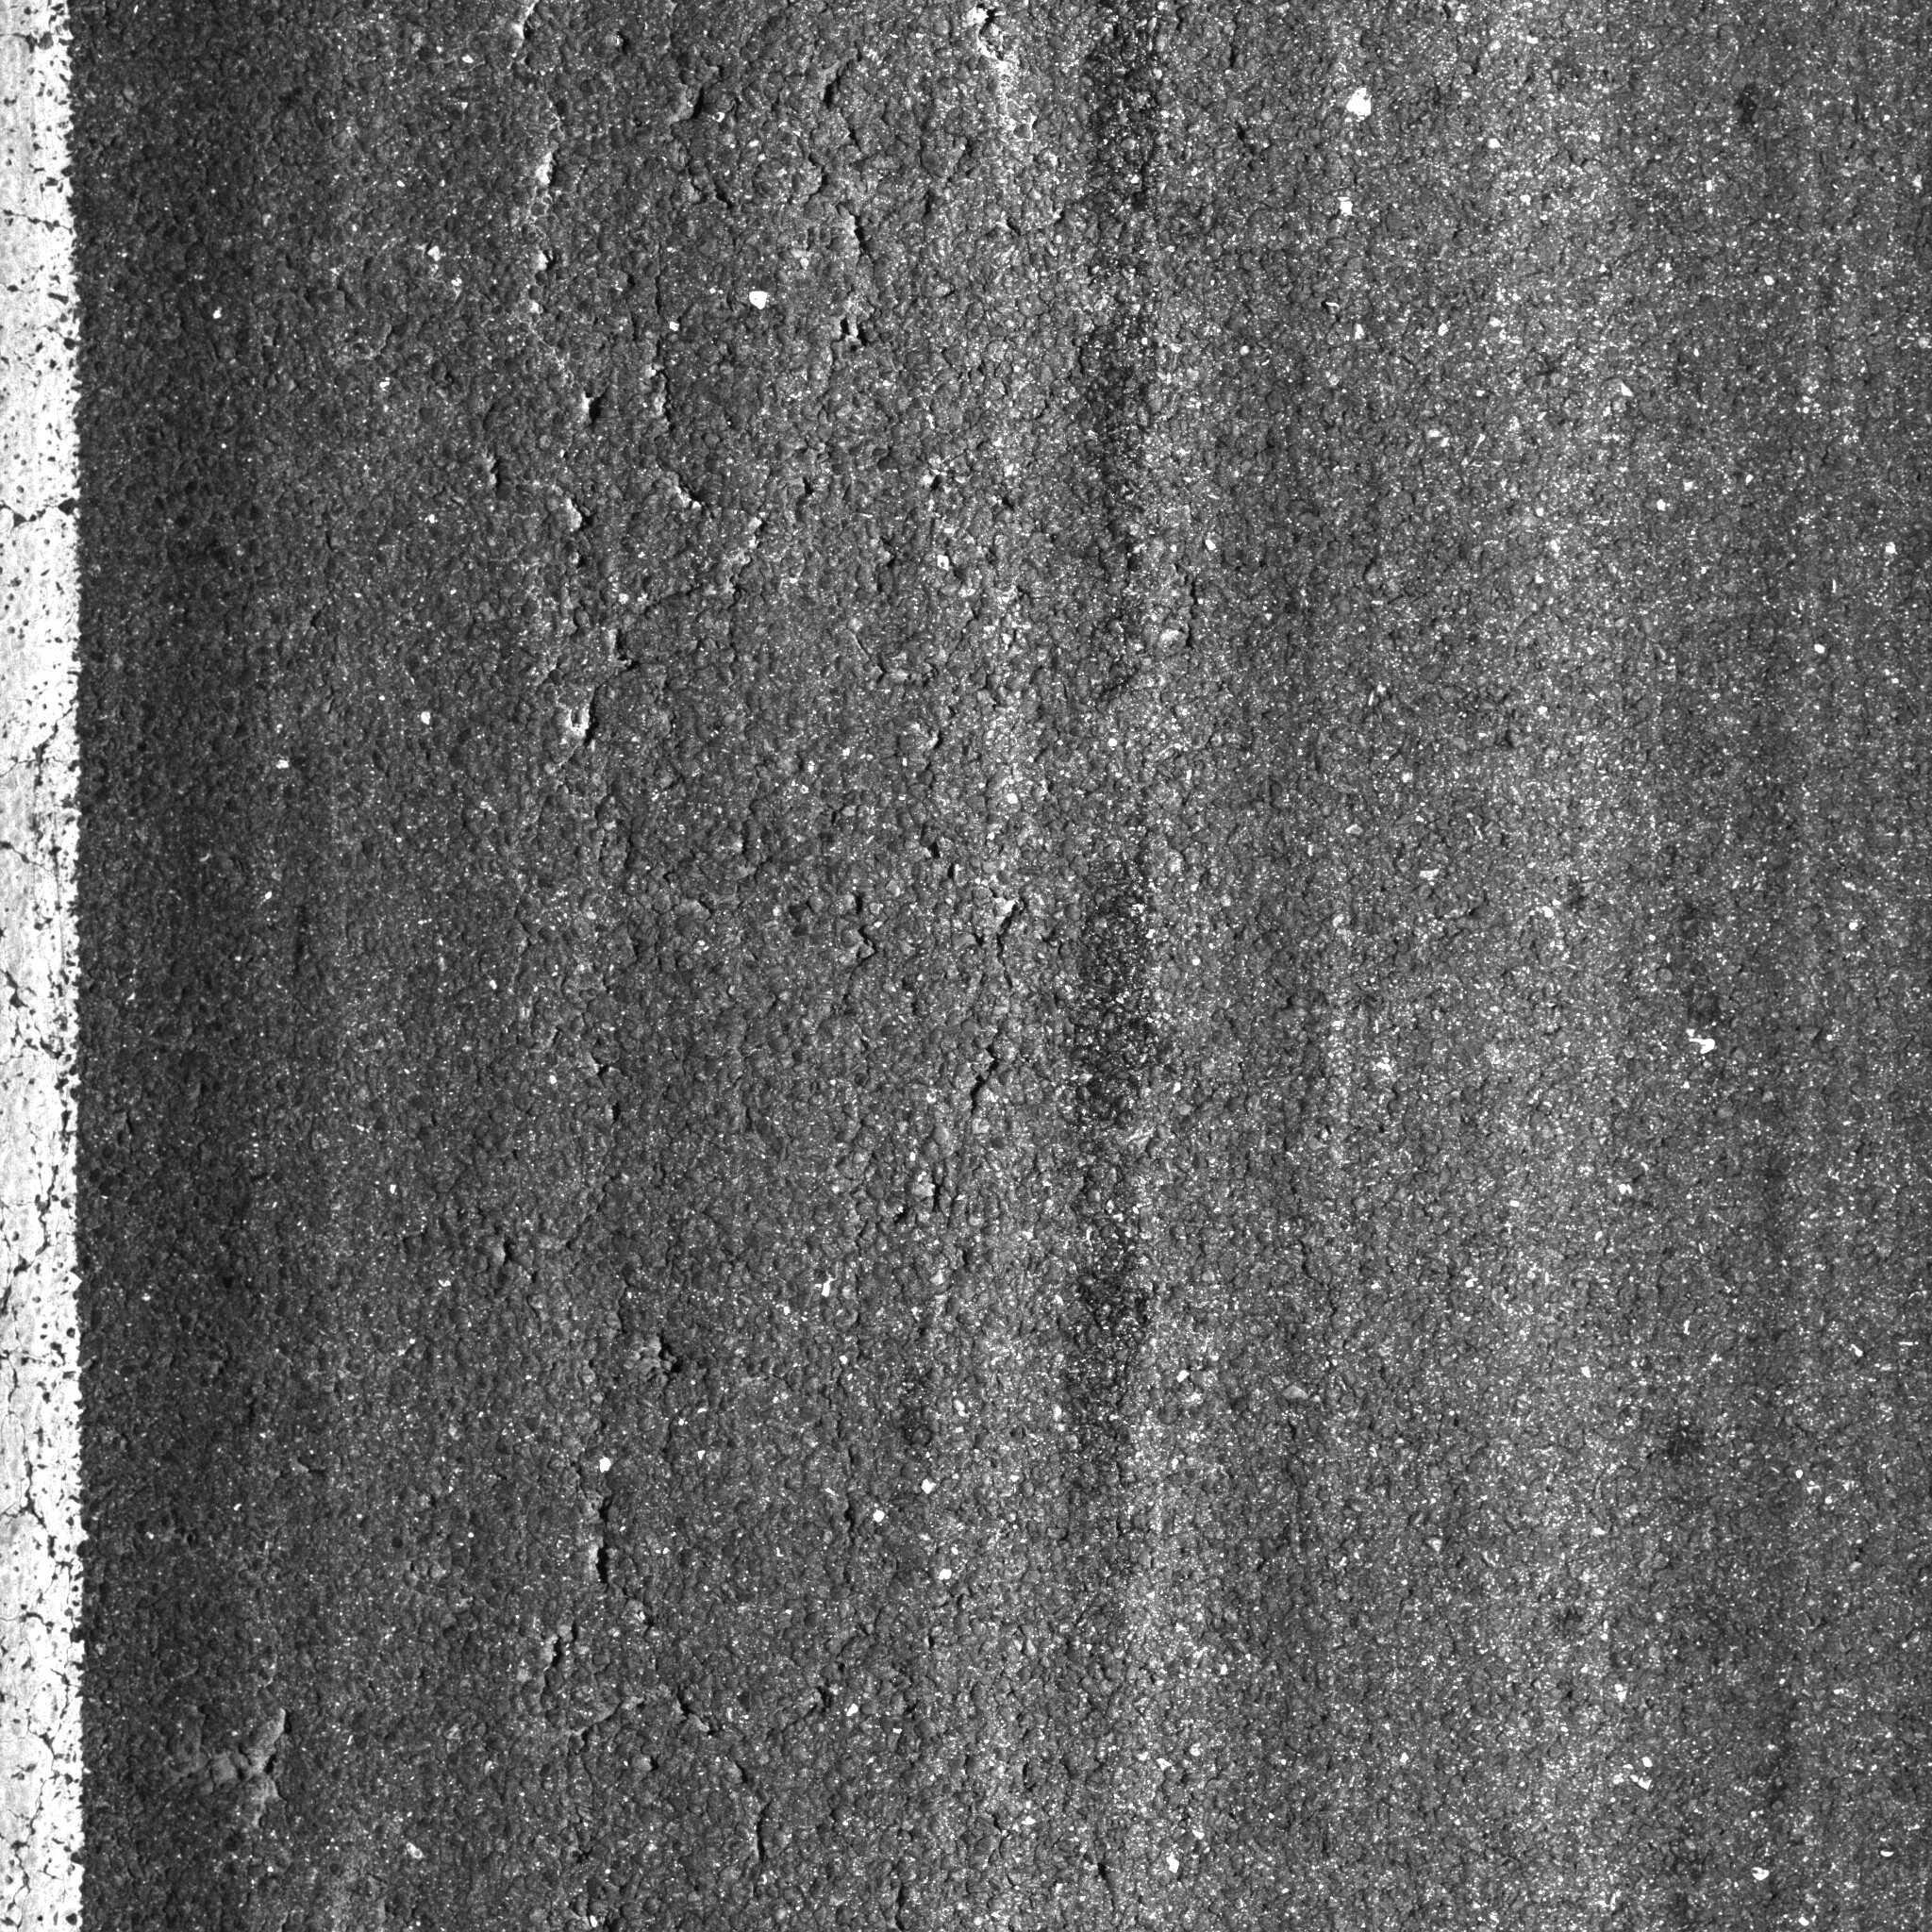alligator: (242, 4, 1123, 1189)
